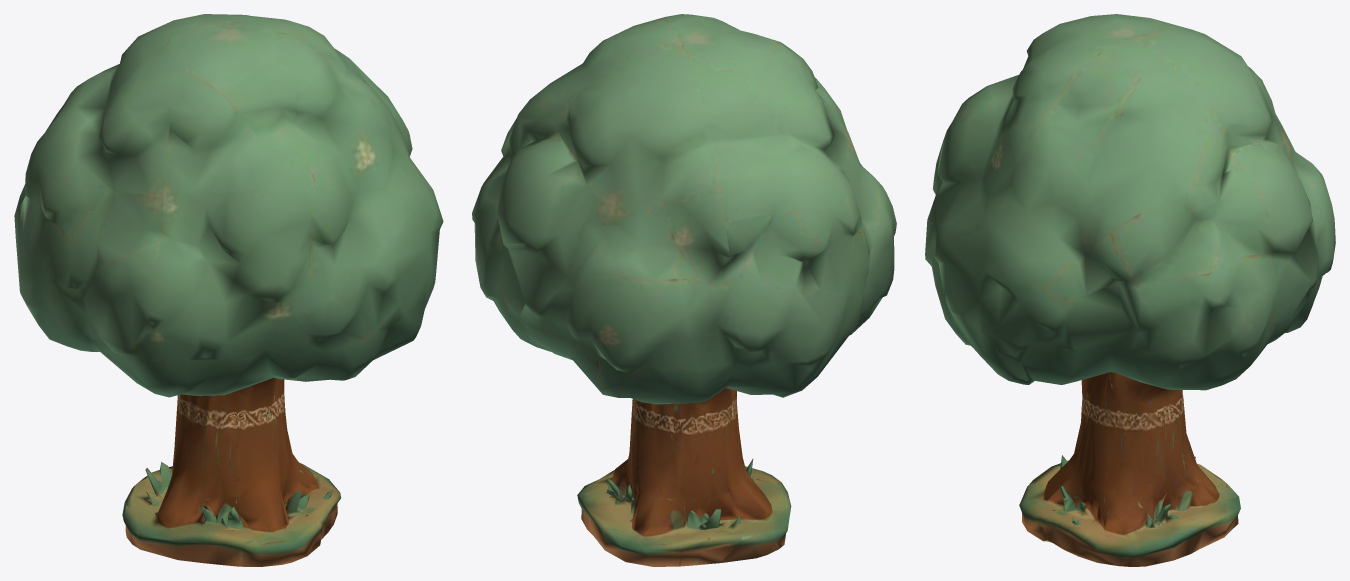
Rendered from tree-round.glb.
3 renders of one model, left to right at view 1: azimuth 30°, elevation 25°; view 2: azimuth 150°, elevation 25°; view 3: azimuth 270°, elevation 25°, orthographic.
Bounding box in the file's own units: 1.45 × 1.9 × 1.46.
1 material, 1 textured.
